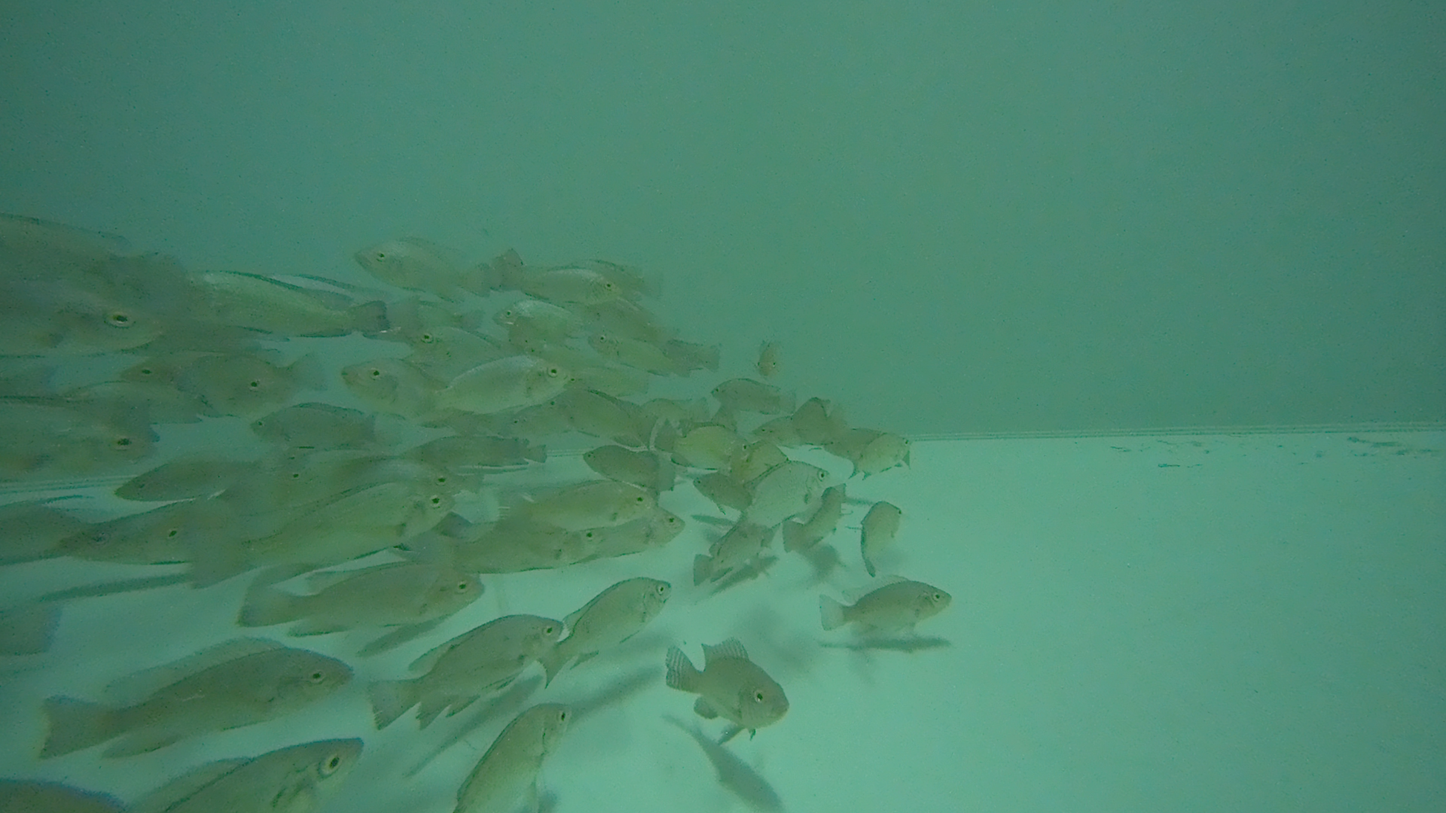fish: (396, 353, 573, 414), (499, 481, 654, 530)
